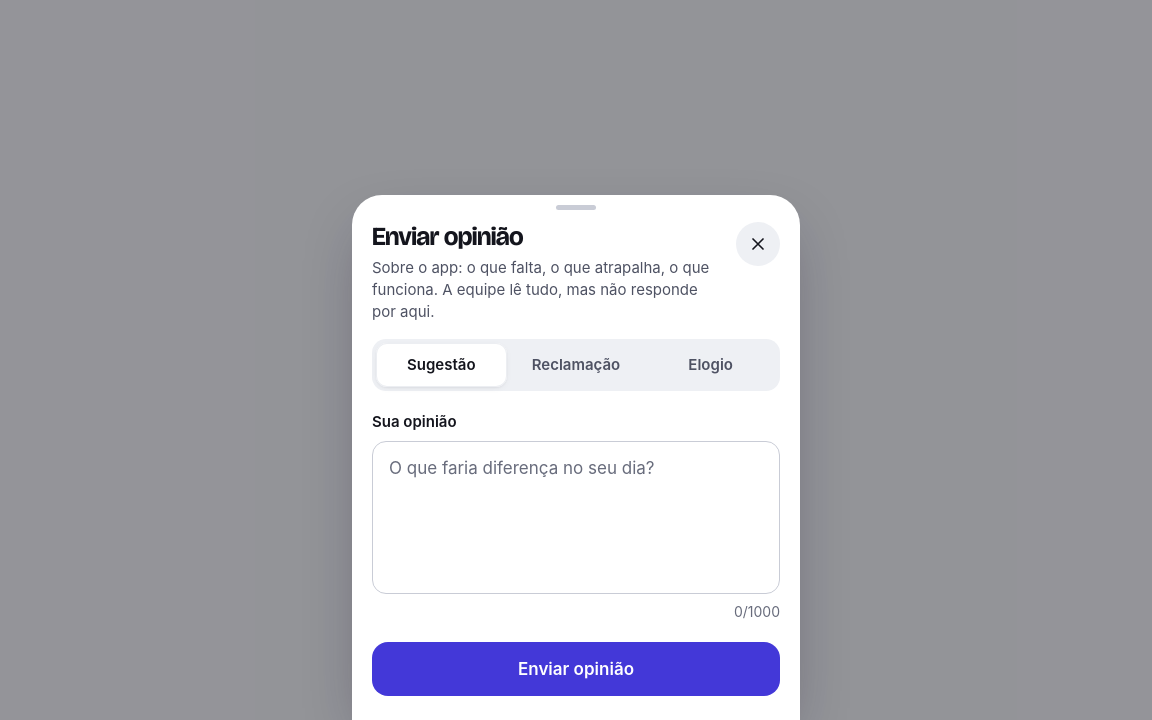
Scenario: FeedbackSheet, as a person uses it › an empty opinion is marked, and nothing leaves
The width and height of the screenshot is (1152, 720).
Click the button "Enviar opinião" at [576, 669], box [372,642,780,696]
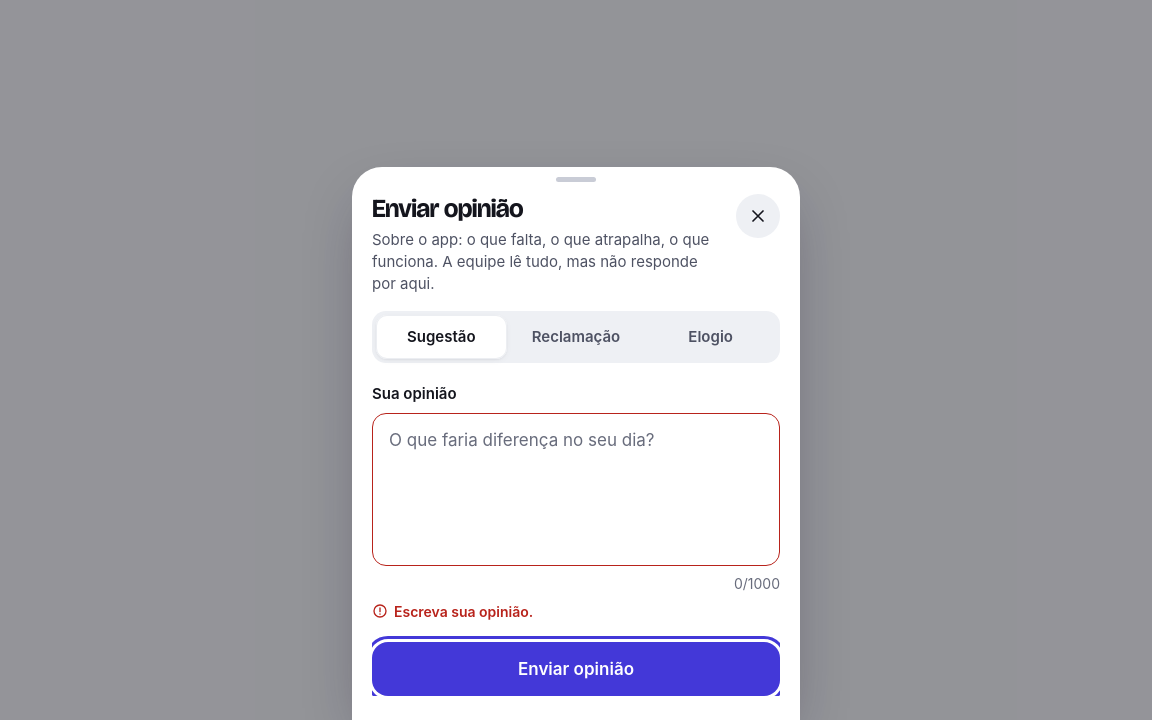
Expected: the text "Escreva sua opinião." is shown, [372,603,533,620]
